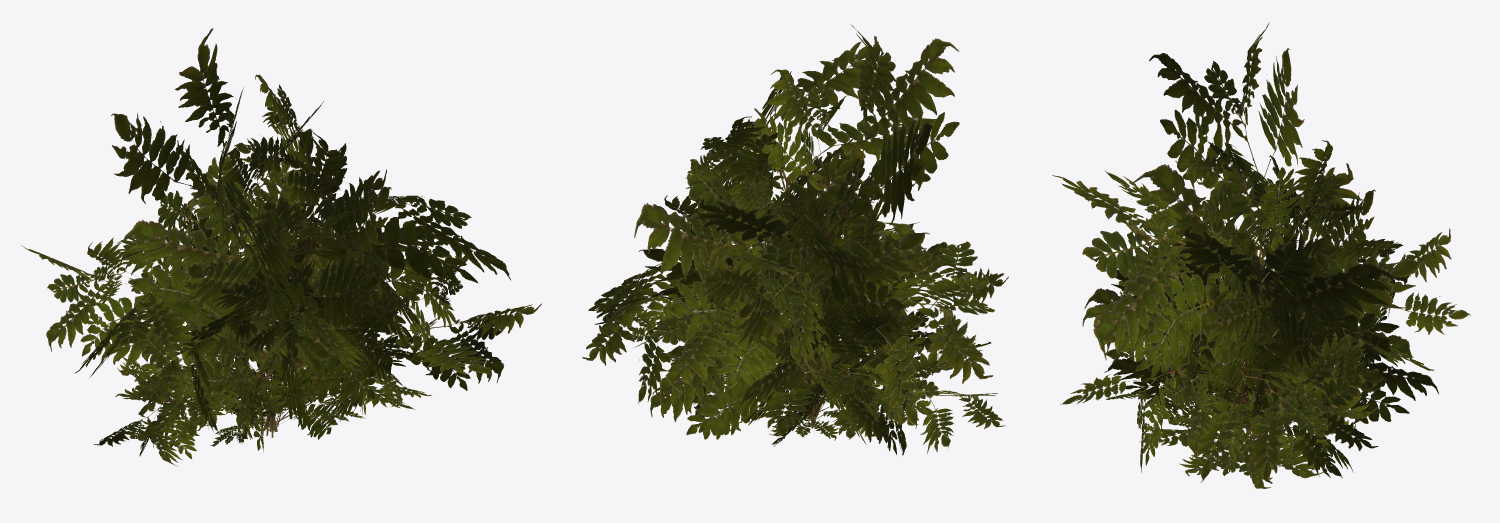
Rendered from bushes_1.glb.
3 renders of one model, left to right at view 1: azimuth 30°, elevation 25°; view 2: azimuth 150°, elevation 25°; view 3: azimuth 270°, elevation 25°, orthographic. The views are drawn at different scales.
Visible parts, largest first — view 1: bush_01; view 2: bush_01; view 3: bush_01.
Part boxes in pixels (x1=…): bush_01: x1=21, y1=28, x2=541, y2=466; bush_01: x1=582, y1=24, x2=1008, y2=455; bush_01: x1=1052, y1=22, x2=1470, y2=488.
Bounding box in the file's own units: 13.87 × 15.74 × 13.76.
Materials: 1 (1 with a texture image).
